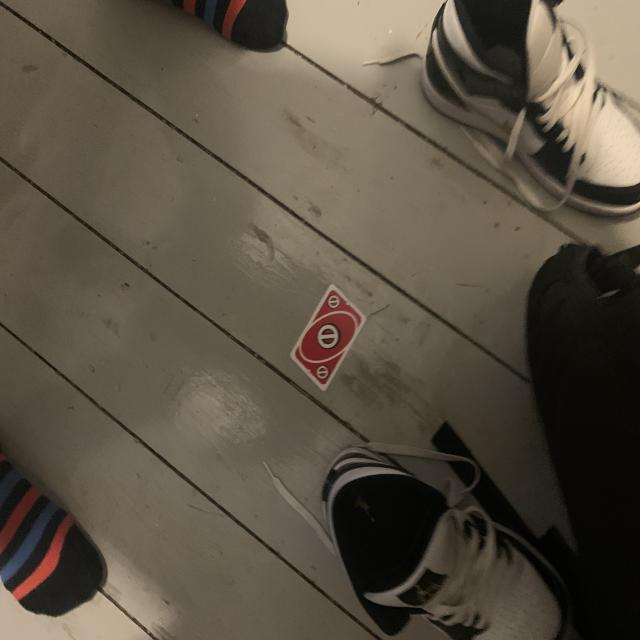lredskip-20: (326, 293, 341, 311)
